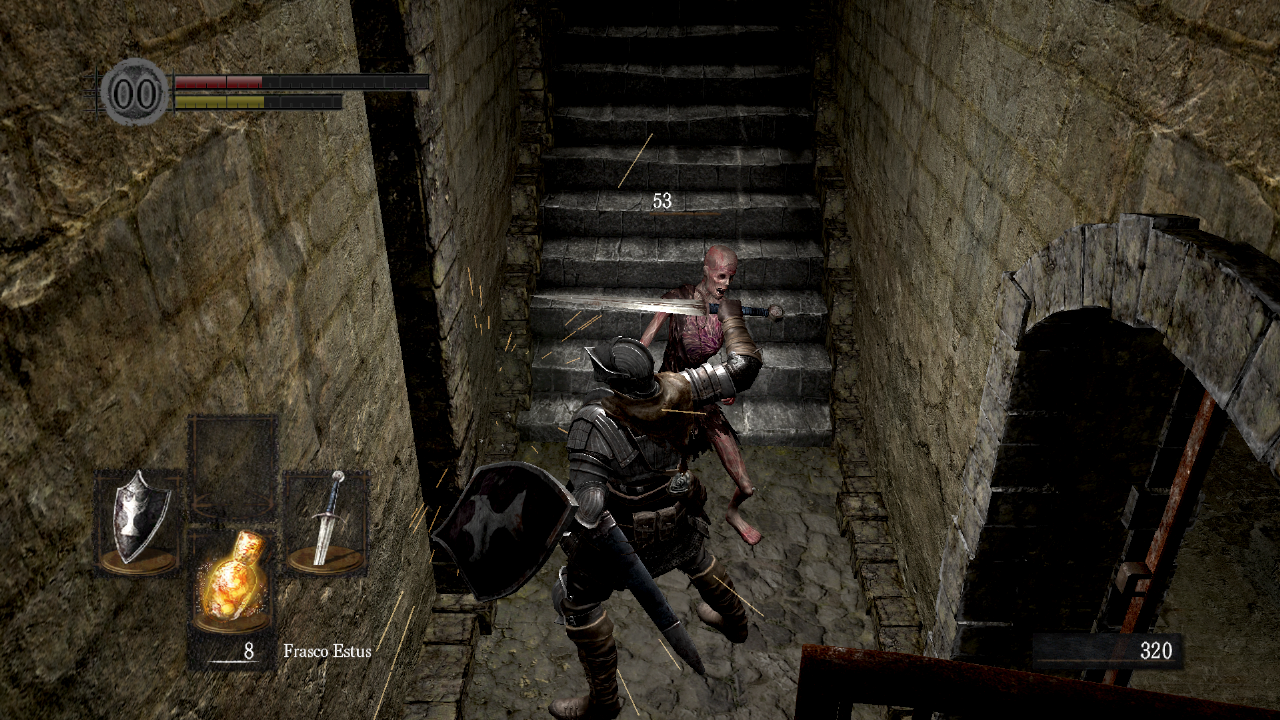hollow: (640, 245, 763, 545)
player: (431, 288, 784, 720)
